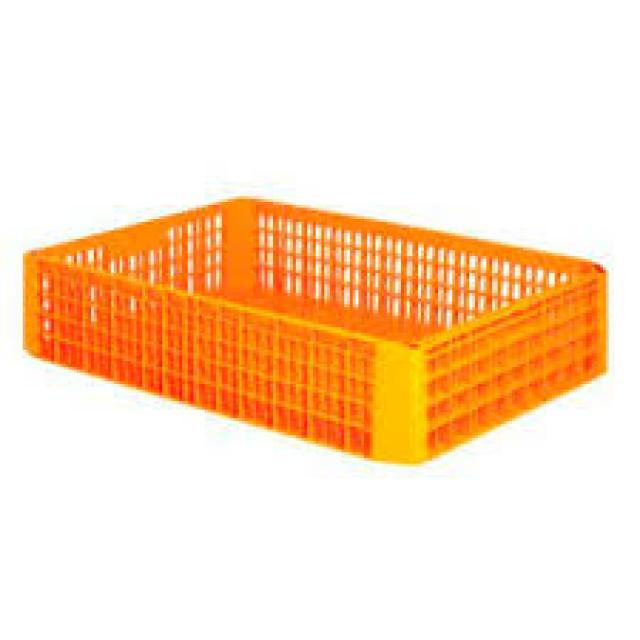basket: (0, 157, 628, 502)
